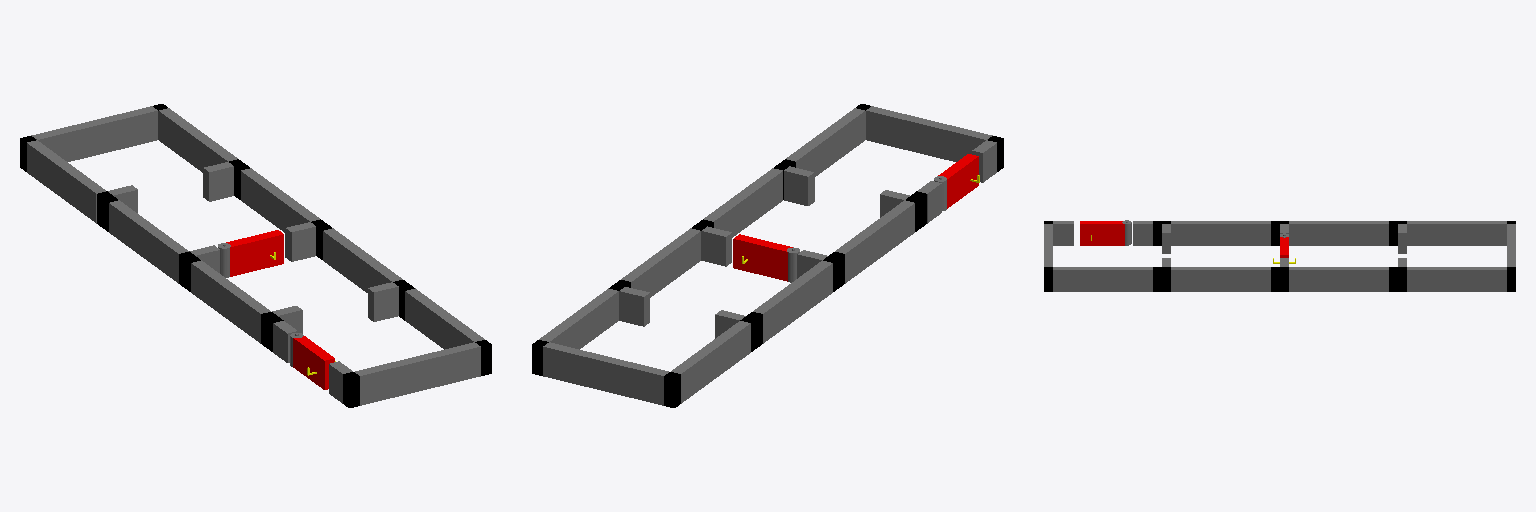
--- Facts derived from the render (not from the file) ---
The picture shows the robot from 3 angles, left to right: view 1: azimuth 30°, elevation 25°; view 2: azimuth 150°, elevation 25°; view 3: azimuth 270°, elevation 25°; orthographic projection.
Model rooms0 with 54 links and 53 joints (2 revolute, 2 prismatic, 49 fixed), rooted at base_link, posed all joints at 0.
Visible links, largest first — view 1: link_fixed_46_wall_(0.0, -3.4625), link_fixed_11_wall_(0.0, 0.4625), link_fixed_13_wall_(-0.4625, -1.0), link_fixed_28_wall_(-0.4625, -2.0), link_fixed_4_wall_(-0.4625, 0.0), link_fixed_9_wall_(0.4625, 0.0), link_fixed_33_wall_(0.4625, -2.0), link_fixed_25_wall_(0.4625, -1.0), link_fixed_48_wall_(0.4625, -3.0), link_fixed_19_door_panel, link_fixed_40_door_panel, link_fixed_31_wall_(0.3375, -2.4625) (+5 smaller); view 2: link_fixed_11_wall_(0.0, 0.4625), link_fixed_46_wall_(0.0, -3.4625), link_fixed_28_wall_(-0.4625, -2.0), link_fixed_13_wall_(-0.4625, -1.0), link_fixed_4_wall_(-0.4625, 0.0), link_fixed_48_wall_(0.4625, -3.0), link_fixed_25_wall_(0.4625, -1.0), link_fixed_33_wall_(0.4625, -2.0), link_fixed_9_wall_(0.4625, 0.0), link_fixed_19_door_panel, link_fixed_40_door_panel, link_fixed_16_wall_(0.3375, -1.4625) (+5 smaller); view 3: link_fixed_13_wall_(-0.4625, -1.0), link_fixed_25_wall_(0.4625, -1.0), link_fixed_28_wall_(-0.4625, -2.0), link_fixed_33_wall_(0.4625, -2.0), link_fixed_48_wall_(0.4625, -3.0), link_fixed_4_wall_(-0.4625, 0.0), link_fixed_9_wall_(0.4625, 0.0), link_fixed_40_door_panel, link_fixed_36_wall_(-0.4625, -3.3375).
Link boxes in pixels (left/top/right/bottom): link_fixed_46_wall_(0.0, -3.4625): left=355, top=342, right=480, bottom=405; link_fixed_11_wall_(0.0, 0.4625): left=31, top=106, right=157, bottom=161; link_fixed_13_wall_(-0.4625, -1.0): left=109, top=200, right=188, bottom=283; link_fixed_28_wall_(-0.4625, -2.0): left=191, top=260, right=270, bottom=343; link_fixed_4_wall_(-0.4625, 0.0): left=27, top=140, right=105, bottom=223; link_fixed_9_wall_(0.4625, 0.0): left=158, top=108, right=237, bottom=172; link_fixed_33_wall_(0.4625, -2.0): left=323, top=228, right=402, bottom=292; link_fixed_25_wall_(0.4625, -1.0): left=241, top=168, right=319, bottom=232; link_fixed_48_wall_(0.4625, -3.0): left=405, top=288, right=484, bottom=349; link_fixed_19_door_panel: left=226, top=230, right=283, bottom=276; link_fixed_40_door_panel: left=293, top=336, right=334, bottom=389; link_fixed_31_wall_(0.3375, -2.4625): left=368, top=282, right=398, bottom=321; link_fixed_11_wall_(0.0, 0.4625): left=543, top=342, right=668, bottom=405; link_fixed_46_wall_(0.0, -3.4625): left=866, top=106, right=992, bottom=161; link_fixed_28_wall_(-0.4625, -2.0): left=835, top=200, right=914, bottom=283; link_fixed_13_wall_(-0.4625, -1.0): left=753, top=260, right=832, bottom=343; link_fixed_4_wall_(-0.4625, 0.0): left=671, top=321, right=750, bottom=403; link_fixed_48_wall_(0.4625, -3.0): left=786, top=108, right=865, bottom=176; link_fixed_25_wall_(0.4625, -1.0): left=621, top=228, right=700, bottom=297; link_fixed_33_wall_(0.4625, -2.0): left=704, top=168, right=782, bottom=237; link_fixed_9_wall_(0.4625, 0.0): left=539, top=288, right=618, bottom=349; link_fixed_19_door_panel: left=733, top=234, right=792, bottom=281; link_fixed_40_door_panel: left=938, top=154, right=978, bottom=208; link_fixed_16_wall_(0.3375, -1.4625): left=701, top=226, right=731, bottom=266; link_fixed_13_wall_(-0.4625, -1.0): left=1289, top=221, right=1388, bottom=245; link_fixed_25_wall_(0.4625, -1.0): left=1289, top=267, right=1388, bottom=291; link_fixed_28_wall_(-0.4625, -2.0): left=1171, top=221, right=1270, bottom=245; link_fixed_33_wall_(0.4625, -2.0): left=1171, top=267, right=1270, bottom=291; link_fixed_48_wall_(0.4625, -3.0): left=1053, top=267, right=1152, bottom=291; link_fixed_4_wall_(-0.4625, 0.0): left=1407, top=221, right=1506, bottom=245; link_fixed_9_wall_(0.4625, 0.0): left=1407, top=267, right=1506, bottom=291; link_fixed_40_door_panel: left=1080, top=221, right=1124, bottom=245; link_fixed_36_wall_(-0.4625, -3.3375): left=1053, top=221, right=1073, bottom=245.
Size in the robot's own frame: 4.24 by 16 by 0.879 metres.
Geometry: only primitive shapes (box / cylinder / sphere) drawn; not drawn: 2 mesh visuals (reference in a form the renderer does not follow).

The robot description file, URDF, robot "rooms0":
<?xml version="1.0"?>
<!-- created with Phobos 1.0.1 "Capricious Choutengan" -->
  <robot name="rooms0">

    <link name="base_link">
    </link>

    <link name="goal">
    </link>

    <link name="link_0_joint_0">
      <visual name="visual_mesh_2_link_0">
        <origin xyz="0 0 0" rpy="0 0 0"/>
        <geometry>
          <mesh filename="file://[local-path]/ba/puzzle-generator/puzzles/rooms0/meshes/stl/robot.stl" scale="1.0 1.0 1.0"/>
        </geometry>
        <material name="green"/>
      </visual>
      <collision name="collision_mesh_2_link_0">
        <origin xyz="0 0 0" rpy="0 0 0"/>
        <geometry>
          <mesh filename="file://[local-path]/ba/puzzle-generator/puzzles/rooms0/meshes/stl/robot.001.stl" scale="1.0 1.0 1.0"/>
        </geometry>
      </collision>
    </link>

    <link name="link_0_joint_0.001">
      <visual name="visual_mesh_2_link_0.001">
        <origin xyz="0 0 0" rpy="0 0 0"/>
        <geometry>
          <mesh filename="file://[local-path]/ba/puzzle-generator/puzzles/rooms0/meshes/stl/robot.002.stl" scale="0.999 0.999 0.999"/>
        </geometry>
        <material name="green_translucent"/>
      </visual>
    </link>

    <link name="link_0_joint_1">
    </link>

    <link name="link_0_joint_1.001">
    </link>

    <link name="link_0_joint_2">
    </link>

    <link name="link_1_joint_0">
      <visual name="visual_cylinder_17_link_1">
        <origin xyz="0 0 0" rpy="0 0 0"/>
        <geometry>
          <cylinder radius="0.1645" length="0.799"/>
        </geometry>
        <material name="gray"/>
      </visual>
      <collision name="collision_cylinder_17_link_1">
        <origin xyz="0 0 0" rpy="0 0 0"/>
        <geometry>
          <cylinder radius="0.1645" length="0.799"/>
        </geometry>
      </collision>
    </link>

    <link name="link_2_joint_0">
      <visual name="visual_cylinder_38_link_2">
        <origin xyz="0 0 0" rpy="0 0 0"/>
        <geometry>
          <cylinder radius="0.1645" length="0.799"/>
        </geometry>
        <material name="gray"/>
      </visual>
      <collision name="collision_cylinder_38_link_2">
        <origin xyz="0 0 0" rpy="0 0 0"/>
        <geometry>
          <cylinder radius="0.1645" length="0.799"/>
        </geometry>
      </collision>
    </link>

    <link name="link_fixed_10_pillar_(-0.4625, 0.4625)">
      <visual name="visual_box_fixed_10_pillar_(-0.4625, 0.4625)">
        <origin xyz="0 0 0" rpy="0 0 0"/>
        <geometry>
          <box size="0.299 0.299 0.799"/>
        </geometry>
        <material name="black"/>
      </visual>
      <collision name="collision_box_fixed_10_pillar_(-0.4625, 0.4625)">
        <origin xyz="0 0 0" rpy="0 0 0"/>
        <geometry>
          <box size="0.299 0.299 0.799"/>
        </geometry>
      </collision>
    </link>

    <link name="link_fixed_11_wall_(0.0, 0.4625)">
      <visual name="visual_box_fixed_11_wall_(0.0, 0.4625)">
        <origin xyz="0 0 0" rpy="0 0 0"/>
        <geometry>
          <box size="3.399 0.299 0.799"/>
        </geometry>
        <material name="gray"/>
      </visual>
      <collision name="collision_box_fixed_11_wall_(0.0, 0.4625)">
        <origin xyz="0 0 0" rpy="0 0 0"/>
        <geometry>
          <box size="3.399 0.299 0.799"/>
        </geometry>
      </collision>
    </link>

    <link name="link_fixed_12_pillar_(-0.4625, -1.4625)">
      <visual name="visual_box_fixed_12_pillar_(-0.4625, -1.4625)">
        <origin xyz="0 0 0" rpy="0 0 0"/>
        <geometry>
          <box size="0.299 0.299 0.799"/>
        </geometry>
        <material name="black"/>
      </visual>
      <collision name="collision_box_fixed_12_pillar_(-0.4625, -1.4625)">
        <origin xyz="0 0 0" rpy="0 0 0"/>
        <geometry>
          <box size="0.299 0.299 0.799"/>
        </geometry>
      </collision>
    </link>

    <link name="link_fixed_13_wall_(-0.4625, -1.0)">
      <visual name="visual_box_fixed_13_wall_(-0.4625, -1.0)">
        <origin xyz="0 0 0" rpy="0 0 0"/>
        <geometry>
          <box size="0.299 3.399 0.799"/>
        </geometry>
        <material name="gray"/>
      </visual>
      <collision name="collision_box_fixed_13_wall_(-0.4625, -1.0)">
        <origin xyz="0 0 0" rpy="0 0 0"/>
        <geometry>
          <box size="0.299 3.399 0.799"/>
        </geometry>
      </collision>
    </link>

    <link name="link_fixed_14_pillar_(0.4625, -1.4625)">
      <visual name="visual_box_fixed_14_pillar_(0.4625, -1.4625)">
        <origin xyz="0 0 0" rpy="0 0 0"/>
        <geometry>
          <box size="0.299 0.299 0.799"/>
        </geometry>
        <material name="black"/>
      </visual>
      <collision name="collision_box_fixed_14_pillar_(0.4625, -1.4625)">
        <origin xyz="0 0 0" rpy="0 0 0"/>
        <geometry>
          <box size="0.299 0.299 0.799"/>
        </geometry>
      </collision>
    </link>

    <link name="link_fixed_15_wall_(-0.3375, -1.4625)">
      <visual name="visual_box_fixed_15_wall_(-0.3375, -1.4625)">
        <origin xyz="0 0 0" rpy="0 0 0"/>
        <geometry>
          <box size="0.699 0.299 0.799"/>
        </geometry>
        <material name="gray"/>
      </visual>
      <collision name="collision_box_fixed_15_wall_(-0.3375, -1.4625)">
        <origin xyz="0 0 0" rpy="0 0 0"/>
        <geometry>
          <box size="0.699 0.299 0.799"/>
        </geometry>
      </collision>
    </link>

    <link name="link_fixed_16_wall_(0.3375, -1.4625)">
      <visual name="visual_box_fixed_16_wall_(0.3375, -1.4625)">
        <origin xyz="0 0 0" rpy="0 0 0"/>
        <geometry>
          <box size="0.699 0.299 0.799"/>
        </geometry>
        <material name="gray"/>
      </visual>
      <collision name="collision_box_fixed_16_wall_(0.3375, -1.4625)">
        <origin xyz="0 0 0" rpy="0 0 0"/>
        <geometry>
          <box size="0.699 0.299 0.799"/>
        </geometry>
      </collision>
    </link>

    <link name="link_fixed_18_hinge">
      <visual name="visual_cylinder_fixed_18_hinge">
        <origin xyz="0 0 0" rpy="0 0 0"/>
        <geometry>
          <cylinder radius="0.04075" length="0.879"/>
        </geometry>
        <material name="gray"/>
      </visual>
    </link>

    <link name="link_fixed_19_door_panel">
      <visual name="visual_box_fixed_19_door_panel">
        <origin xyz="0 0 0" rpy="0 0 0"/>
        <geometry>
          <box size="1.599 0.299 0.795"/>
        </geometry>
        <material name="red"/>
      </visual>
      <collision name="collision_box_fixed_19_door_panel">
        <origin xyz="0 0 0" rpy="0 0 0"/>
        <geometry>
          <box size="1.599 0.299 0.795"/>
        </geometry>
      </collision>
    </link>

    <link name="link_fixed_20_door_handle1">
      <visual name="visual_box_fixed_20_door_handle1">
        <origin xyz="0 0 0" rpy="0 0 0"/>
        <geometry>
          <box size="0.039 0.039 0.199"/>
        </geometry>
        <material name="yellow"/>
      </visual>
      <collision name="collision_box_fixed_20_door_handle1">
        <origin xyz="0 0 0" rpy="0 0 0"/>
        <geometry>
          <box size="0.039 0.039 0.199"/>
        </geometry>
      </collision>
    </link>

    <link name="link_fixed_21_door_handle1_connector">
      <visual name="visual_box_fixed_21_door_handle1_connector">
        <origin xyz="0 0 0" rpy="0 0 0"/>
        <geometry>
          <box size="0.039 0.199 0.039"/>
        </geometry>
        <material name="yellow"/>
      </visual>
      <collision name="collision_box_fixed_21_door_handle1_connector">
        <origin xyz="0 0 0" rpy="0 0 0"/>
        <geometry>
          <box size="0.039 0.199 0.039"/>
        </geometry>
      </collision>
    </link>

    <link name="link_fixed_22_door_handle2">
      <visual name="visual_box_fixed_22_door_handle2">
        <origin xyz="0 0 0" rpy="0 0 0"/>
        <geometry>
          <box size="0.039 0.039 0.199"/>
        </geometry>
        <material name="yellow"/>
      </visual>
      <collision name="collision_box_fixed_22_door_handle2">
        <origin xyz="0 0 0" rpy="0 0 0"/>
        <geometry>
          <box size="0.039 0.039 0.199"/>
        </geometry>
      </collision>
    </link>

    <link name="link_fixed_23_door_handle2_connector">
      <visual name="visual_box_fixed_23_door_handle2_connector">
        <origin xyz="0 0 0" rpy="0 0 0"/>
        <geometry>
          <box size="0.039 0.199 0.039"/>
        </geometry>
        <material name="yellow"/>
      </visual>
      <collision name="collision_box_fixed_23_door_handle2_connector">
        <origin xyz="0 0 0" rpy="0 0 0"/>
        <geometry>
          <box size="0.039 0.199 0.039"/>
        </geometry>
      </collision>
    </link>

    <link name="link_fixed_24_pillar_(0.4625, -0.5375)">
      <visual name="visual_box_fixed_24_pillar_(0.4625, -0.5375)">
        <origin xyz="0 0 0" rpy="0 0 0"/>
        <geometry>
          <box size="0.299 0.299 0.799"/>
        </geometry>
        <material name="black"/>
      </visual>
      <collision name="collision_box_fixed_24_pillar_(0.4625, -0.5375)">
        <origin xyz="0 0 0" rpy="0 0 0"/>
        <geometry>
          <box size="0.299 0.299 0.799"/>
        </geometry>
      </collision>
    </link>

    <link name="link_fixed_25_wall_(0.4625, -1.0)">
      <visual name="visual_box_fixed_25_wall_(0.4625, -1.0)">
        <origin xyz="0 0 0" rpy="0 0 0"/>
        <geometry>
          <box size="0.299 3.399 0.799"/>
        </geometry>
        <material name="gray"/>
      </visual>
      <collision name="collision_box_fixed_25_wall_(0.4625, -1.0)">
        <origin xyz="0 0 0" rpy="0 0 0"/>
        <geometry>
          <box size="0.299 3.399 0.799"/>
        </geometry>
      </collision>
    </link>

    <link name="link_fixed_26_pillar_(-0.4625, -0.5375)">
      <visual name="visual_box_fixed_26_pillar_(-0.4625, -0.5375)">
        <origin xyz="0 0 0" rpy="0 0 0"/>
        <geometry>
          <box size="0.299 0.299 0.799"/>
        </geometry>
        <material name="black"/>
      </visual>
      <collision name="collision_box_fixed_26_pillar_(-0.4625, -0.5375)">
        <origin xyz="0 0 0" rpy="0 0 0"/>
        <geometry>
          <box size="0.299 0.299 0.799"/>
        </geometry>
      </collision>
    </link>

    <link name="link_fixed_27_pillar_(-0.4625, -2.4625)">
      <visual name="visual_box_fixed_27_pillar_(-0.4625, -2.4625)">
        <origin xyz="0 0 0" rpy="0 0 0"/>
        <geometry>
          <box size="0.299 0.299 0.799"/>
        </geometry>
        <material name="black"/>
      </visual>
      <collision name="collision_box_fixed_27_pillar_(-0.4625, -2.4625)">
        <origin xyz="0 0 0" rpy="0 0 0"/>
        <geometry>
          <box size="0.299 0.299 0.799"/>
        </geometry>
      </collision>
    </link>

    <link name="link_fixed_28_wall_(-0.4625, -2.0)">
      <visual name="visual_box_fixed_28_wall_(-0.4625, -2.0)">
        <origin xyz="0 0 0" rpy="0 0 0"/>
        <geometry>
          <box size="0.299 3.399 0.799"/>
        </geometry>
        <material name="gray"/>
      </visual>
      <collision name="collision_box_fixed_28_wall_(-0.4625, -2.0)">
        <origin xyz="0 0 0" rpy="0 0 0"/>
        <geometry>
          <box size="0.299 3.399 0.799"/>
        </geometry>
      </collision>
    </link>

    <link name="link_fixed_29_pillar_(0.4625, -2.4625)">
      <visual name="visual_box_fixed_29_pillar_(0.4625, -2.4625)">
        <origin xyz="0 0 0" rpy="0 0 0"/>
        <geometry>
          <box size="0.299 0.299 0.799"/>
        </geometry>
        <material name="black"/>
      </visual>
      <collision name="collision_box_fixed_29_pillar_(0.4625, -2.4625)">
        <origin xyz="0 0 0" rpy="0 0 0"/>
        <geometry>
          <box size="0.299 0.299 0.799"/>
        </geometry>
      </collision>
    </link>

    <link name="link_fixed_30_wall_(-0.3375, -2.4625)">
      <visual name="visual_box_fixed_30_wall_(-0.3375, -2.4625)">
        <origin xyz="0 0 0" rpy="0 0 0"/>
        <geometry>
          <box size="0.699 0.299 0.799"/>
        </geometry>
        <material name="gray"/>
      </visual>
      <collision name="collision_box_fixed_30_wall_(-0.3375, -2.4625)">
        <origin xyz="0 0 0" rpy="0 0 0"/>
        <geometry>
          <box size="0.699 0.299 0.799"/>
        </geometry>
      </collision>
    </link>

    <link name="link_fixed_31_wall_(0.3375, -2.4625)">
      <visual name="visual_box_fixed_31_wall_(0.3375, -2.4625)">
        <origin xyz="0 0 0" rpy="0 0 0"/>
        <geometry>
          <box size="0.699 0.299 0.799"/>
        </geometry>
        <material name="gray"/>
      </visual>
      <collision name="collision_box_fixed_31_wall_(0.3375, -2.4625)">
        <origin xyz="0 0 0" rpy="0 0 0"/>
        <geometry>
          <box size="0.699 0.299 0.799"/>
        </geometry>
      </collision>
    </link>

    <link name="link_fixed_32_pillar_(0.4625, -1.5375)">
      <visual name="visual_box_fixed_32_pillar_(0.4625, -1.5375)">
        <origin xyz="0 0 0" rpy="0 0 0"/>
        <geometry>
          <box size="0.299 0.299 0.799"/>
        </geometry>
        <material name="black"/>
      </visual>
      <collision name="collision_box_fixed_32_pillar_(0.4625, -1.5375)">
        <origin xyz="0 0 0" rpy="0 0 0"/>
        <geometry>
          <box size="0.299 0.299 0.799"/>
        </geometry>
      </collision>
    </link>

    <link name="link_fixed_33_wall_(0.4625, -2.0)">
      <visual name="visual_box_fixed_33_wall_(0.4625, -2.0)">
        <origin xyz="0 0 0" rpy="0 0 0"/>
        <geometry>
          <box size="0.299 3.399 0.799"/>
        </geometry>
        <material name="gray"/>
      </visual>
      <collision name="collision_box_fixed_33_wall_(0.4625, -2.0)">
        <origin xyz="0 0 0" rpy="0 0 0"/>
        <geometry>
          <box size="0.299 3.399 0.799"/>
        </geometry>
      </collision>
    </link>

    <link name="link_fixed_34_pillar_(-0.4625, -1.5375)">
      <visual name="visual_box_fixed_34_pillar_(-0.4625, -1.5375)">
        <origin xyz="0 0 0" rpy="0 0 0"/>
        <geometry>
          <box size="0.299 0.299 0.799"/>
        </geometry>
        <material name="black"/>
      </visual>
      <collision name="collision_box_fixed_34_pillar_(-0.4625, -1.5375)">
        <origin xyz="0 0 0" rpy="0 0 0"/>
        <geometry>
          <box size="0.299 0.299 0.799"/>
        </geometry>
      </collision>
    </link>

    <link name="link_fixed_35_pillar_(-0.4625, -3.4625)">
      <visual name="visual_box_fixed_35_pillar_(-0.4625, -3.4625)">
        <origin xyz="0 0 0" rpy="0 0 0"/>
        <geometry>
          <box size="0.299 0.299 0.799"/>
        </geometry>
        <material name="black"/>
      </visual>
      <collision name="collision_box_fixed_35_pillar_(-0.4625, -3.4625)">
        <origin xyz="0 0 0" rpy="0 0 0"/>
        <geometry>
          <box size="0.299 0.299 0.799"/>
        </geometry>
      </collision>
    </link>

    <link name="link_fixed_36_wall_(-0.4625, -3.3375)">
      <visual name="visual_box_fixed_36_wall_(-0.4625, -3.3375)">
        <origin xyz="0 0 0" rpy="0 0 0"/>
        <geometry>
          <box size="0.299 0.699 0.799"/>
        </geometry>
        <material name="gray"/>
      </visual>
      <collision name="collision_box_fixed_36_wall_(-0.4625, -3.3375)">
        <origin xyz="0 0 0" rpy="0 0 0"/>
        <geometry>
          <box size="0.299 0.699 0.799"/>
        </geometry>
      </collision>
    </link>

    <link name="link_fixed_37_wall_(-0.4625, -2.6625)">
      <visual name="visual_box_fixed_37_wall_(-0.4625, -2.6625)">
        <origin xyz="0 0 0" rpy="0 0 0"/>
        <geometry>
          <box size="0.299 0.699 0.799"/>
        </geometry>
        <material name="gray"/>
      </visual>
      <collision name="collision_box_fixed_37_wall_(-0.4625, -2.6625)">
        <origin xyz="0 0 0" rpy="0 0 0"/>
        <geometry>
          <box size="0.299 0.699 0.799"/>
        </geometry>
      </collision>
    </link>

    <link name="link_fixed_39_hinge">
      <visual name="visual_cylinder_fixed_39_hinge">
        <origin xyz="0 0 0" rpy="0 0 0"/>
        <geometry>
          <cylinder radius="0.04075" length="0.879"/>
        </geometry>
        <material name="gray"/>
      </visual>
    </link>

    <link name="link_fixed_3_pillar_(-0.4625, -0.4625)">
      <visual name="visual_box_fixed_3_pillar_(-0.4625, -0.4625)">
        <origin xyz="0 0 0" rpy="0 0 0"/>
        <geometry>
          <box size="0.299 0.299 0.799"/>
        </geometry>
        <material name="black"/>
      </visual>
      <collision name="collision_box_fixed_3_pillar_(-0.4625, -0.4625)">
        <origin xyz="0 0 0" rpy="0 0 0"/>
        <geometry>
          <box size="0.299 0.299 0.799"/>
        </geometry>
      </collision>
    </link>

    <link name="link_fixed_40_door_panel">
      <visual name="visual_box_fixed_40_door_panel">
        <origin xyz="0 0 0" rpy="0 0 0"/>
        <geometry>
          <box size="1.599 0.299 0.795"/>
        </geometry>
        <material name="red"/>
      </visual>
      <collision name="collision_box_fixed_40_door_panel">
        <origin xyz="0 0 0" rpy="0 0 0"/>
        <geometry>
          <box size="1.599 0.299 0.795"/>
        </geometry>
      </collision>
    </link>

    <link name="link_fixed_41_door_handle1">
      <visual name="visual_box_fixed_41_door_handle1">
        <origin xyz="0 0 0" rpy="0 0 0"/>
        <geometry>
          <box size="0.039 0.039 0.199"/>
        </geometry>
        <material name="yellow"/>
      </visual>
      <collision name="collision_box_fixed_41_door_handle1">
        <origin xyz="0 0 0" rpy="0 0 0"/>
        <geometry>
          <box size="0.039 0.039 0.199"/>
        </geometry>
      </collision>
    </link>

    <link name="link_fixed_42_door_handle1_connector">
      <visual name="visual_box_fixed_42_door_handle1_connector">
        <origin xyz="0 0 0" rpy="0 0 0"/>
        <geometry>
          <box size="0.039 0.199 0.039"/>
        </geometry>
        <material name="yellow"/>
      </visual>
      <collision name="collision_box_fixed_42_door_handle1_connector">
        <origin xyz="0 0 0" rpy="0 0 0"/>
        <geometry>
          <box size="0.039 0.199 0.039"/>
        </geometry>
      </collision>
    </link>

    <link name="link_fixed_43_door_handle2">
      <visual name="visual_box_fixed_43_door_handle2">
        <origin xyz="0 0 0" rpy="0 0 0"/>
        <geometry>
          <box size="0.039 0.039 0.199"/>
        </geometry>
        <material name="yellow"/>
      </visual>
      <collision name="collision_box_fixed_43_door_handle2">
        <origin xyz="0 0 0" rpy="0 0 0"/>
        <geometry>
          <box size="0.039 0.039 0.199"/>
        </geometry>
      </collision>
    </link>

    <link name="link_fixed_44_door_handle2_connector">
      <visual name="visual_box_fixed_44_door_handle2_connector">
        <origin xyz="0 0 0" rpy="0 0 0"/>
        <geometry>
          <box size="0.039 0.199 0.039"/>
        </geometry>
        <material name="yellow"/>
      </visual>
      <collision name="collision_box_fixed_44_door_handle2_connector">
        <origin xyz="0 0 0" rpy="0 0 0"/>
        <geometry>
          <box size="0.039 0.199 0.039"/>
        </geometry>
      </collision>
    </link>

    <link name="link_fixed_45_pillar_(0.4625, -3.4625)">
      <visual name="visual_box_fixed_45_pillar_(0.4625, -3.4625)">
        <origin xyz="0 0 0" rpy="0 0 0"/>
        <geometry>
          <box size="0.299 0.299 0.799"/>
        </geometry>
        <material name="black"/>
      </visual>
      <collision name="collision_box_fixed_45_pillar_(0.4625, -3.4625)">
        <origin xyz="0 0 0" rpy="0 0 0"/>
        <geometry>
          <box size="0.299 0.299 0.799"/>
        </geometry>
      </collision>
    </link>

    <link name="link_fixed_46_wall_(0.0, -3.4625)">
      <visual name="visual_box_fixed_46_wall_(0.0, -3.4625)">
        <origin xyz="0 0 0" rpy="0 0 0"/>
        <geometry>
          <box size="3.399 0.299 0.799"/>
        </geometry>
        <material name="gray"/>
      </visual>
      <collision name="collision_box_fixed_46_wall_(0.0, -3.4625)">
        <origin xyz="0 0 0" rpy="0 0 0"/>
        <geometry>
          <box size="3.399 0.299 0.799"/>
        </geometry>
      </collision>
    </link>

    <link name="link_fixed_47_pillar_(0.4625, -2.5375)">
      <visual name="visual_box_fixed_47_pillar_(0.4625, -2.5375)">
        <origin xyz="0 0 0" rpy="0 0 0"/>
        <geometry>
          <box size="0.299 0.299 0.799"/>
        </geometry>
        <material name="black"/>
      </visual>
      <collision name="collision_box_fixed_47_pillar_(0.4625, -2.5375)">
        <origin xyz="0 0 0" rpy="0 0 0"/>
        <geometry>
          <box size="0.299 0.299 0.799"/>
        </geometry>
      </collision>
    </link>

    <link name="link_fixed_48_wall_(0.4625, -3.0)">
      <visual name="visual_box_fixed_48_wall_(0.4625, -3.0)">
        <origin xyz="0 0 0" rpy="0 0 0"/>
        <geometry>
          <box size="0.299 3.399 0.799"/>
        </geometry>
        <material name="gray"/>
      </visual>
      <collision name="collision_box_fixed_48_wall_(0.4625, -3.0)">
        <origin xyz="0 0 0" rpy="0 0 0"/>
        <geometry>
          <box size="0.299 3.399 0.799"/>
        </geometry>
      </collision>
    </link>

    <link name="link_fixed_49_pillar_(-0.4625, -2.5375)">
      <visual name="visual_box_fixed_49_pillar_(-0.4625, -2.5375)">
        <origin xyz="0 0 0" rpy="0 0 0"/>
        <geometry>
          <box size="0.299 0.299 0.799"/>
        </geometry>
        <material name="black"/>
      </visual>
      <collision name="collision_box_fixed_49_pillar_(-0.4625, -2.5375)">
        <origin xyz="0 0 0" rpy="0 0 0"/>
        <geometry>
          <box size="0.299 0.299 0.799"/>
        </geometry>
      </collision>
    </link>

    <link name="link_fixed_4_wall_(-0.4625, 0.0)">
      <visual name="visual_box_fixed_4_wall_(-0.4625, 0.0)">
        <origin xyz="0 0 0" rpy="0 0 0"/>
        <geometry>
          <box size="0.299 3.399 0.799"/>
        </geometry>
        <material name="gray"/>
      </visual>
      <collision name="collision_box_fixed_4_wall_(-0.4625, 0.0)">
        <origin xyz="0 0 0" rpy="0 0 0"/>
        <geometry>
          <box size="0.299 3.399 0.799"/>
        </geometry>
      </collision>
    </link>

    <link name="link_fixed_5_pillar_(0.4625, -0.4625)">
      <visual name="visual_box_fixed_5_pillar_(0.4625, -0.4625)">
        <origin xyz="0 0 0" rpy="0 0 0"/>
        <geometry>
          <box size="0.299 0.299 0.799"/>
        </geometry>
        <material name="black"/>
      </visual>
      <collision name="collision_box_fixed_5_pillar_(0.4625, -0.4625)">
        <origin xyz="0 0 0" rpy="0 0 0"/>
        <geometry>
          <box size="0.299 0.299 0.799"/>
        </geometry>
      </collision>
    </link>

    <link name="link_fixed_6_wall_(-0.3375, -0.4625)">
      <visual name="visual_box_fixed_6_wall_(-0.3375, -0.4625)">
        <origin xyz="0 0 0" rpy="0 0 0"/>
        <geometry>
          <box size="0.699 0.299 0.799"/>
        </geometry>
        <material name="gray"/>
      </visual>
      <collision name="collision_box_fixed_6_wall_(-0.3375, -0.4625)">
        <origin xyz="0 0 0" rpy="0 0 0"/>
        <geometry>
          <box size="0.699 0.299 0.799"/>
        </geometry>
      </collision>
    </link>

    <link name="link_fixed_7_wall_(0.3375, -0.4625)">
      <visual name="visual_box_fixed_7_wall_(0.3375, -0.4625)">
        <origin xyz="0 0 0" rpy="0 0 0"/>
        <geometry>
          <box size="0.699 0.299 0.799"/>
        </geometry>
        <material name="gray"/>
      </visual>
      <collision name="collision_box_fixed_7_wall_(0.3375, -0.4625)">
        <origin xyz="0 0 0" rpy="0 0 0"/>
        <geometry>
          <box size="0.699 0.299 0.799"/>
        </geometry>
      </collision>
    </link>

    <link name="link_fixed_8_pillar_(0.4625, 0.4625)">
      <visual name="visual_box_fixed_8_pillar_(0.4625, 0.4625)">
        <origin xyz="0 0 0" rpy="0 0 0"/>
        <geometry>
          <box size="0.299 0.299 0.799"/>
        </geometry>
        <material name="black"/>
      </visual>
      <collision name="collision_box_fixed_8_pillar_(0.4625, 0.4625)">
        <origin xyz="0 0 0" rpy="0 0 0"/>
        <geometry>
          <box size="0.299 0.299 0.799"/>
        </geometry>
      </collision>
    </link>

    <link name="link_fixed_9_wall_(0.4625, 0.0)">
      <visual name="visual_box_fixed_9_wall_(0.4625, 0.0)">
        <origin xyz="0 0 0" rpy="0 0 0"/>
        <geometry>
          <box size="0.299 3.399 0.799"/>
        </geometry>
        <material name="gray"/>
      </visual>
      <collision name="collision_box_fixed_9_wall_(0.4625, 0.0)">
        <origin xyz="0 0 0" rpy="0 0 0"/>
        <geometry>
          <box size="0.299 3.399 0.799"/>
        </geometry>
      </collision>
    </link>

    <joint name="goal" type="fixed">
      <origin xyz="-4.0 -12.0 0.25" rpy="0 0 0"/>
      <parent link="base_link"/>
      <child link="goal"/>
      <limit effort="0" velocity="0"/>
    </joint>

    <joint name="link_0_joint_0" type="fixed">
      <origin xyz="0 0 0" rpy="0 0 0"/>
      <parent link="link_0_joint_1"/>
      <child link="link_0_joint_0"/>
      <limit effort="0" velocity="0"/>
    </joint>

    <joint name="link_0_joint_0.001" type="fixed">
      <origin xyz="0 0 0" rpy="0 0 0"/>
      <parent link="link_0_joint_1.001"/>
      <child link="link_0_joint_0.001"/>
      <limit effort="0" velocity="0"/>
    </joint>

    <joint name="link_0_joint_1" type="prismatic">
      <origin xyz="0 0 0" rpy="0 0 0"/>
      <parent link="link_0_joint_2"/>
      <child link="link_0_joint_1"/>
      <axis xyz="0 1.0 0"/>
      <limit lower="-14.0" upper="2.0" effort="0" velocity="0"/>
    </joint>

    <joint name="link_0_joint_1.001" type="fixed">
      <origin xyz="0 0 0" rpy="0 0 0"/>
      <parent link="goal"/>
      <child link="link_0_joint_1.001"/>
      <limit effort="0" velocity="0"/>
    </joint>

    <joint name="link_0_joint_2" type="prismatic">
      <origin xyz="0 0 0.25" rpy="0 0 0"/>
      <parent link="base_link"/>
      <child link="link_0_joint_2"/>
      <axis xyz="1.0 0 0"/>
      <limit lower="-6.0" upper="2.0" effort="0" velocity="0"/>
    </joint>

    <joint name="link_1_joint_0" type="revolute">
      <origin xyz="-0.8 -5.85 0.4" rpy="0 0 0"/>
      <parent link="base_link"/>
      <child link="link_1_joint_0"/>
      <axis xyz="0 0 1.0"/>
      <limit lower="0" upper="1.5708" effort="0" velocity="0"/>
    </joint>

    <joint name="link_2_joint_0" type="revolute">
      <origin xyz="-1.85 -11.2 0.4" rpy="0 0 -1.5708"/>
      <parent link="base_link"/>
      <child link="link_2_joint_0"/>
      <axis xyz="0 0 1.0"/>
      <limit lower="0" upper="1.5708" effort="0" velocity="0"/>
    </joint>

    <joint name="link_fixed_10_pillar_(-0.4625, 0.4625)" type="fixed">
      <origin xyz="-1.85 1.85 0.4" rpy="0 0 0"/>
      <parent link="base_link"/>
      <child link="link_fixed_10_pillar_(-0.4625, 0.4625)"/>
    </joint>

    <joint name="link_fixed_11_wall_(0.0, 0.4625)" type="fixed">
      <origin xyz="0 1.85 0.4" rpy="0 0 0"/>
      <parent link="base_link"/>
      <child link="link_fixed_11_wall_(0.0, 0.4625)"/>
    </joint>

    <joint name="link_fixed_12_pillar_(-0.4625, -1.4625)" type="fixed">
      <origin xyz="-1.85 -5.85 0.4" rpy="0 0 0"/>
      <parent link="base_link"/>
      <child link="link_fixed_12_pillar_(-0.4625, -1.4625)"/>
    </joint>

    <joint name="link_fixed_13_wall_(-0.4625, -1.0)" type="fixed">
      <origin xyz="-1.85 -4.0 0.4" rpy="0 0 0"/>
      <parent link="base_link"/>
      <child link="link_fixed_13_wall_(-0.4625, -1.0)"/>
    </joint>

    <joint name="link_fixed_14_pillar_(0.4625, -1.4625)" type="fixed">
      <origin xyz="1.85 -5.85 0.4" rpy="0 0 0"/>
      <parent link="base_link"/>
      <child link="link_fixed_14_pillar_(0.4625, -1.4625)"/>
    </joint>

    <joint name="link_fixed_15_wall_(-0.3375, -1.4625)" type="fixed">
      <origin xyz="-1.35 -5.85 0.4" rpy="0 0 0"/>
      <parent link="base_link"/>
      <child link="link_fixed_15_wall_(-0.3375, -1.4625)"/>
    </joint>

    <joint name="link_fixed_16_wall_(0.3375, -1.4625)" type="fixed">
      <origin xyz="1.35 -5.85 0.4" rpy="0 0 0"/>
      <parent link="base_link"/>
      <child link="link_fixed_16_wall_(0.3375, -1.4625)"/>
    </joint>

    <joint name="link_fixed_18_hinge" type="fixed">
      <origin xyz="0 0 0" rpy="0 0 0"/>
      <parent link="link_1_joint_0"/>
      <child link="link_fixed_18_hinge"/>
    </joint>

    <joint name="link_fixed_19_door_panel" type="fixed">
      <origin xyz="0.8 0 0" rpy="0 0 0"/>
      <parent link="link_1_joint_0"/>
      <child link="link_fixed_19_door_panel"/>
    </joint>

    <joint name="link_fixed_20_door_handle1" type="fixed">
      <origin xyz="1.2 0.37 0" rpy="0 0 0"/>
      <parent link="link_1_joint_0"/>
      <child link="link_fixed_20_door_handle1"/>
    </joint>

    <joint name="link_fixed_21_door_handle1_connector" type="fixed">
      <origin xyz="1.2 0.25 -0.08" rpy="0 0 0"/>
      <parent link="link_1_joint_0"/>
      <child link="link_fixed_21_door_handle1_connector"/>
    </joint>

    <joint name="link_fixed_22_door_handle2" type="fixed">
      <origin xyz="1.2 -0.37 0" rpy="0 0 0"/>
      <parent link="link_1_joint_0"/>
      <child link="link_fixed_22_door_handle2"/>
    </joint>

    <joint name="link_fixed_23_door_handle2_connector" type="fixed">
      <origin xyz="1.2 -0.25 -0.08" rpy="0 0 0"/>
      <parent link="link_1_joint_0"/>
      <child link="link_fixed_23_door_handle2_connector"/>
    </joint>

    <joint name="link_fixed_24_pillar_(0.4625, -0.5375)" type="fixed">
      <origin xyz="1.85 -2.15 0.4" rpy="0 0 0"/>
      <parent link="base_link"/>
      <child link="link_fixed_24_pillar_(0.4625, -0.5375)"/>
    </joint>

    <joint name="link_fixed_25_wall_(0.4625, -1.0)" type="fixed">
      <origin xyz="1.85 -4.0 0.4" rpy="0 0 0"/>
      <parent link="base_link"/>
      <child link="link_fixed_25_wall_(0.4625, -1.0)"/>
    </joint>

    <joint name="link_fixed_26_pillar_(-0.4625, -0.5375)" type="fixed">
      <origin xyz="-1.85 -2.15 0.4" rpy="0 0 0"/>
      <parent link="base_link"/>
      <child link="link_fixed_26_pillar_(-0.4625, -0.5375)"/>
    </joint>

    <joint name="link_fixed_27_pillar_(-0.4625, -2.4625)" type="fixed">
      <origin xyz="-1.85 -9.85 0.4" rpy="0 0 0"/>
      <parent link="base_link"/>
      <child link="link_fixed_27_pillar_(-0.4625, -2.4625)"/>
    </joint>

    <joint name="link_fixed_28_wall_(-0.4625, -2.0)" type="fixed">
      <origin xyz="-1.85 -8.0 0.4" rpy="0 0 0"/>
      <parent link="base_link"/>
      <child link="link_fixed_28_wall_(-0.4625, -2.0)"/>
    </joint>

    <joint name="link_fixed_29_pillar_(0.4625, -2.4625)" type="fixed">
      <origin xyz="1.85 -9.85 0.4" rpy="0 0 0"/>
      <parent link="base_link"/>
      <child link="link_fixed_29_pillar_(0.4625, -2.4625)"/>
    </joint>

    <joint name="link_fixed_30_wall_(-0.3375, -2.4625)" type="fixed">
      <origin xyz="-1.35 -9.85 0.4" rpy="0 0 0"/>
      <parent link="base_link"/>
      <child link="link_fixed_30_wall_(-0.3375, -2.4625)"/>
    </joint>

    <joint name="link_fixed_31_wall_(0.3375, -2.4625)" type="fixed">
      <origin xyz="1.35 -9.85 0.4" rpy="0 0 0"/>
      <parent link="base_link"/>
      <child link="link_fixed_31_wall_(0.3375, -2.4625)"/>
    </joint>

    <joint name="link_fixed_32_pillar_(0.4625, -1.5375)" type="fixed">
      <origin xyz="1.85 -6.15 0.4" rpy="0 0 0"/>
      <parent link="base_link"/>
      <child link="link_fixed_32_pillar_(0.4625, -1.5375)"/>
    </joint>

    <joint name="link_fixed_33_wall_(0.4625, -2.0)" type="fixed">
      <origin xyz="1.85 -8.0 0.4" rpy="0 0 0"/>
      <parent link="base_link"/>
      <child link="link_fixed_33_wall_(0.4625, -2.0)"/>
    </joint>

    <joint name="link_fixed_34_pillar_(-0.4625, -1.5375)" type="fixed">
      <origin xyz="-1.85 -6.15 0.4" rpy="0 0 0"/>
      <parent link="base_link"/>
      <child link="link_fixed_34_pillar_(-0.4625, -1.5375)"/>
    </joint>

    <joint name="link_fixed_35_pillar_(-0.4625, -3.4625)" type="fixed">
      <origin xyz="-1.85 -13.85 0.4" rpy="0 0 0"/>
      <parent link="base_link"/>
      <child link="link_fixed_35_pillar_(-0.4625, -3.4625)"/>
    </joint>

    <joint name="link_fixed_36_wall_(-0.4625, -3.3375)" type="fixed">
      <origin xyz="-1.85 -13.35 0.4" rpy="0 0 0"/>
      <parent link="base_link"/>
      <child link="link_fixed_36_wall_(-0.4625, -3.3375)"/>
    </joint>

    <joint name="link_fixed_37_wall_(-0.4625, -2.6625)" type="fixed">
      <origin xyz="-1.85 -10.65 0.4" rpy="0 0 0"/>
      <parent link="base_link"/>
      <child link="link_fixed_37_wall_(-0.4625, -2.6625)"/>
    </joint>

    <joint name="link_fixed_39_hinge" type="fixed">
      <origin xyz="0 0 0" rpy="0 0 0"/>
      <parent link="link_2_joint_0"/>
      <child link="link_fixed_39_hinge"/>
    </joint>

    <joint name="link_fixed_3_pillar_(-0.4625, -0.4625)" type="fixed">
      <origin xyz="-1.85 -1.85 0.4" rpy="0 0 0"/>
      <parent link="base_link"/>
      <child link="link_fixed_3_pillar_(-0.4625, -0.4625)"/>
    </joint>

    <joint name="link_fixed_40_door_panel" type="fixed">
      <origin xyz="0.8 0 0" rpy="0 0 0"/>
      <parent link="link_2_joint_0"/>
      <child link="link_fixed_40_door_panel"/>
    </joint>

    <joint name="link_fixed_41_door_handle1" type="fixed">
      <origin xyz="1.2 0.37 0" rpy="0 0 0"/>
      <parent link="link_2_joint_0"/>
      <child link="link_fixed_41_door_handle1"/>
    </joint>

    <joint name="link_fixed_42_door_handle1_connector" type="fixed">
      <origin xyz="1.2 0.25 -0.08" rpy="0 0 0"/>
      <parent link="link_2_joint_0"/>
      <child link="link_fixed_42_door_handle1_connector"/>
    </joint>

    <joint name="link_fixed_43_door_handle2" type="fixed">
      <origin xyz="1.2 -0.37 0" rpy="0 0 0"/>
      <parent link="link_2_joint_0"/>
      <child link="link_fixed_43_door_handle2"/>
    </joint>

    <joint name="link_fixed_44_door_handle2_connector" type="fixed">
      <origin xyz="1.2 -0.25 -0.08" rpy="0 0 0"/>
      <parent link="link_2_joint_0"/>
      <child link="link_fixed_44_door_handle2_connector"/>
    </joint>

    <joint name="link_fixed_45_pillar_(0.4625, -3.4625)" type="fixed">
      <origin xyz="1.85 -13.85 0.4" rpy="0 0 0"/>
      <parent link="base_link"/>
      <child link="link_fixed_45_pillar_(0.4625, -3.4625)"/>
    </joint>

    <joint name="link_fixed_46_wall_(0.0, -3.4625)" type="fixed">
      <origin xyz="0 -13.85 0.4" rpy="0 0 0"/>
      <parent link="base_link"/>
      <child link="link_fixed_46_wall_(0.0, -3.4625)"/>
    </joint>

    <joint name="link_fixed_47_pillar_(0.4625, -2.5375)" type="fixed">
      <origin xyz="1.85 -10.15 0.4" rpy="0 0 0"/>
      <parent link="base_link"/>
      <child link="link_fixed_47_pillar_(0.4625, -2.5375)"/>
    </joint>

    <joint name="link_fixed_48_wall_(0.4625, -3.0)" type="fixed">
      <origin xyz="1.85 -12.0 0.4" rpy="0 0 0"/>
      <parent link="base_link"/>
      <child link="link_fixed_48_wall_(0.4625, -3.0)"/>
    </joint>

    <joint name="link_fixed_49_pillar_(-0.4625, -2.5375)" type="fixed">
      <origin xyz="-1.85 -10.15 0.4" rpy="0 0 0"/>
      <parent link="base_link"/>
      <child link="link_fixed_49_pillar_(-0.4625, -2.5375)"/>
    </joint>

    <joint name="link_fixed_4_wall_(-0.4625, 0.0)" type="fixed">
      <origin xyz="-1.85 0 0.4" rpy="0 0 0"/>
      <parent link="base_link"/>
      <child link="link_fixed_4_wall_(-0.4625, 0.0)"/>
    </joint>

    <joint name="link_fixed_5_pillar_(0.4625, -0.4625)" type="fixed">
      <origin xyz="1.85 -1.85 0.4" rpy="0 0 0"/>
      <parent link="base_link"/>
      <child link="link_fixed_5_pillar_(0.4625, -0.4625)"/>
    </joint>

    <joint name="link_fixed_6_wall_(-0.3375, -0.4625)" type="fixed">
      <origin xyz="-1.35 -1.85 0.4" rpy="0 0 0"/>
      <parent link="base_link"/>
      <child link="link_fixed_6_wall_(-0.3375, -0.4625)"/>
    </joint>

    <joint name="link_fixed_7_wall_(0.3375, -0.4625)" type="fixed">
      <origin xyz="1.35 -1.85 0.4" rpy="0 0 0"/>
      <parent link="base_link"/>
      <child link="link_fixed_7_wall_(0.3375, -0.4625)"/>
    </joint>

    <joint name="link_fixed_8_pillar_(0.4625, 0.4625)" type="fixed">
      <origin xyz="1.85 1.85 0.4" rpy="0 0 0"/>
      <parent link="base_link"/>
      <child link="link_fixed_8_pillar_(0.4625, 0.4625)"/>
    </joint>

    <joint name="link_fixed_9_wall_(0.4625, 0.0)" type="fixed">
      <origin xyz="1.85 0 0.4" rpy="0 0 0"/>
      <parent link="base_link"/>
      <child link="link_fixed_9_wall_(0.4625, 0.0)"/>
    </joint>

    <material name="black">
      <color rgba="0 0 0 1.0"/>
    </material>

    <material name="gray">
      <color rgba="0.5 0.5 0.5 1.0"/>
    </material>

    <material name="green">
      <color rgba="0 1.0 0 1.0"/>
    </material>

    <material name="green_translucent">
      <color rgba="0 1.0 0 0.25"/>
    </material>

    <material name="red">
      <color rgba="1.0 0 0 1.0"/>
    </material>

    <material name="yellow">
      <color rgba="1.0 1.0 0 1.0"/>
    </material>

  </robot>
